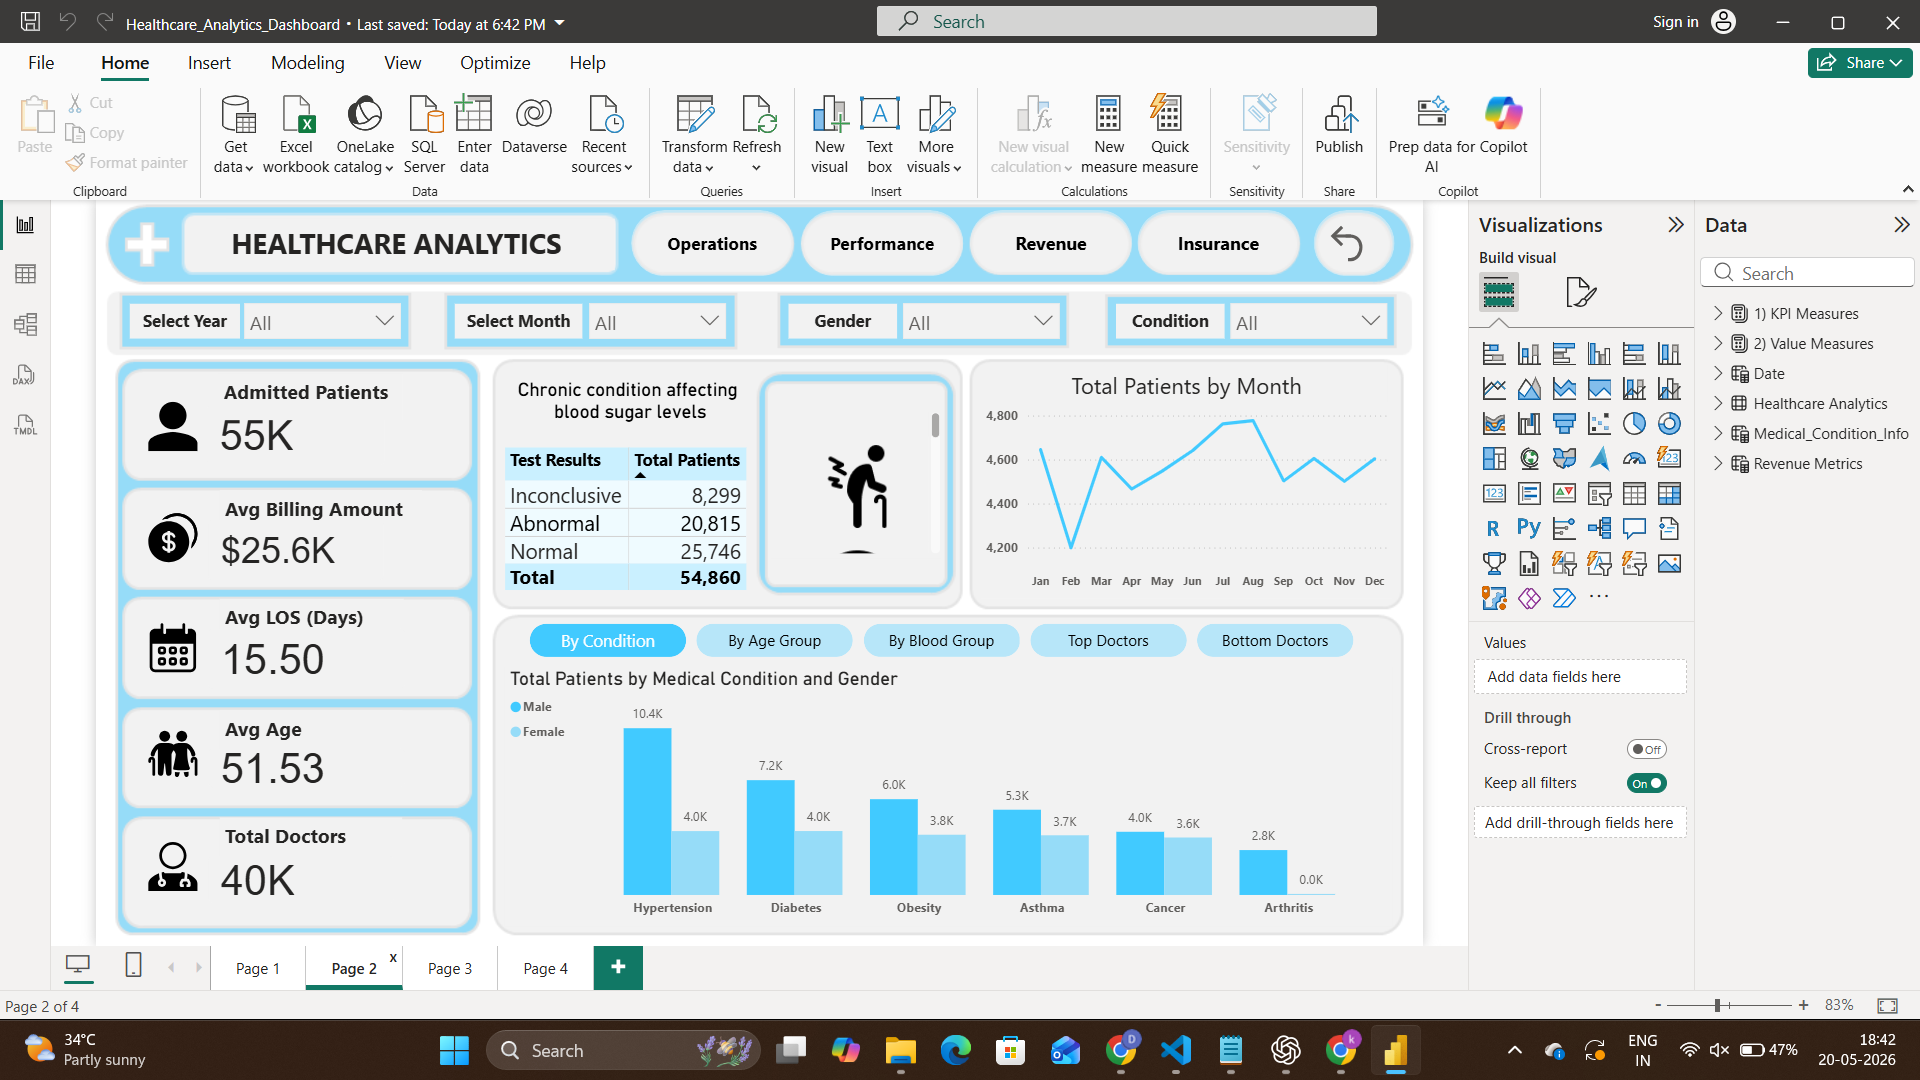

This screenshot's page, from the dashboard's own definition file:
{"tool":"powerbi","page":{"name":"Page 2","canvas":[1280,720],"ordinal":1},"visuals":[{"type":"cardVisual","fields":{"Data":["1) DAX Measures.Total Patients"]},"box":[90.5,181,205.1,92.9],"z":0},{"type":"textbox","box":[118.2,167.7,177.3,44.6],"z":1000},{"type":"clusteredColumnChart","fields":{"Y":["1) DAX Measures.Total Patients"],"Category":["Healthcare Analytics.Medical Condition"],"Series":["Healthcare Analytics.Gender"]},"box":[394.1,451,856.6,249.7],"z":1000,"group":"g2"},{"type":"image","box":[38.6,187.1,71.4,62.9],"z":2000},{"type":"textbox","box":[119.4,279.9,195.4,45.8],"z":3000},{"type":"textbox","box":[119.4,384.9,177.3,44.6],"z":4000},{"type":"textbox","box":[119.4,492.2,176.1,44.6],"z":5000},{"type":"textbox","box":[119.4,596,176.1,44.6],"z":6000},{"type":"image","box":[38.6,294.3,71.4,62.9],"z":7000},{"type":"image","box":[38.6,400,71.4,62.9],"z":8000},{"type":"image","box":[38.6,502.9,71.4,62.9],"z":9000},{"type":"image","box":[38.6,611.4,71.4,62.9],"z":10000},{"type":"cardVisual","fields":{"Data":["1) DAX Measures.Total Doctors"]},"box":[91.7,616.5,213.5,79.6],"z":11000},{"type":"cardVisual","fields":{"Data":["1) DAX Measures.Avg LOS per Hospital"]},"box":[91.7,396.9,223.2,92.9],"z":12000},{"type":"cardVisual","fields":{"Data":["1) DAX Measures.Avg Age"]},"box":[91.7,512.7,223.2,71.2],"z":13000},{"type":"cardVisual","fields":{"Data":["1) DAX Measures.Avg Billing"]},"box":[91.7,292,203.9,92.9],"z":14000},{"type":"card","fields":{"Values":["2) Value Measures.Patients KPI"]},"box":[209.1,215,163,36.6],"z":15000},{"type":"card","fields":{"Values":["2) Value Measures.Avg LOS KPI"]},"box":[207.9,429.9,164.2,36.6],"z":16000},{"type":"card","fields":{"Values":["2) Value Measures.Avg Age KPI"]},"box":[207.9,528,164.2,37.8],"z":17000},{"type":"card","fields":{"Values":["2) Value Measures.Doctors KPI"]},"box":[207.9,633.1,164.2,37.8],"z":18000},{"type":"card","fields":{"Values":["2) Value Measures.Avg Billing KPI"]},"box":[228,322.1,125.5,37.4],"z":19000},{"type":"tableEx","fields":{"Values":["Medical_Condition_Info.Image URL"]},"box":[651.5,197.9,164.1,148.4],"z":20000},{"type":"slicer","fields":{"Values":["Healthcare Analytics.Gender"]},"box":[768.5,89.3,171.3,49.5],"z":21000},{"type":"textbox","box":[668.4,100.1,105,33.8],"z":22000},{"type":"card","fields":{"Values":["Min(Medical_Condition_Info.Description)"]},"box":[396.9,159.3,237.7,68.8],"z":23000},{"type":"textbox","box":[32.6,100.1,106.2,33.8],"z":24000},{"type":"slicer","fields":{"Values":["Date.Year"]},"box":[132.7,89.3,171.3,49.5],"z":25000},{"type":"tableEx","fields":{"Values":["Healthcare Analytics.Test Results","1) DAX Measures.Total Patients"]},"box":[388.5,234,246.1,147.2],"z":26000},{"type":"textbox","box":[859,159.3,387.3,41],"z":27000},{"type":"actionButton","box":[680.4,9.7,156.8,63.9],"z":28000},{"type":"actionButton","box":[843.3,9.7,156.8,62.7],"z":29000},{"type":"actionButton","box":[1005,9.7,156.8,62.7],"z":30000},{"type":"actionButton","box":[516.4,9.7,156.8,63.9],"z":31000},{"type":"actionButton","box":[1175.1,9.7,78.4,63.9],"z":32000},{"type":"textbox","box":[984.5,100.1,105,33.8],"z":33000},{"type":"slicer","fields":{"Values":["Medical_Condition_Info.Medical Condition"]},"box":[1084.6,89.3,171.3,49.5],"z":34000},{"type":"group","id":"g1","title":"Top and Bottom","box":[405.2,417.4,836.3,281.1],"z":35000},{"type":"group","id":"g2","title":"Performance (page 2)","box":[392.9,409,857.8,291.7],"z":36000},{"type":"textbox","box":[346.2,100.1,123.1,33.8],"z":37000},{"type":"slicer","fields":{"Values":["Date.Month name"]},"box":[465.7,89.3,152,49.5],"z":38000},{"type":"lineChart","fields":{"Category":["Date.Month name"],"Y":["1) DAX Measures.Total Patients"]},"box":[854.2,194.2,396.9,190.6],"z":39000},{"type":"textbox","box":[125.5,18.1,375.2,49.5],"z":40000},{"type":"bookmarkNavigator","box":[418.2,409,799.9,32.6],"z":40001,"group":"g2"}]}

Visuals, with their boxes on the page's 1280x720 design canvas (x1, y1, x2, y2). These are canvas units, not pixel positions in the 1920x1080 screenshot, which may show the page scaled, cropped or inside an application window:
cardVisual - 1) DAX Measures.Total Patients: (90,181,296,274)
textbox: (118,168,296,212)
clusteredColumnChart - 1) DAX Measures.Total Patients x Healthcare Analytics.Medical Condition: (394,451,1251,701)
image: (39,187,110,250)
textbox: (119,280,315,326)
textbox: (119,385,297,430)
textbox: (119,492,296,537)
textbox: (119,596,296,641)
image: (39,294,110,357)
image: (39,400,110,463)
image: (39,503,110,566)
image: (39,611,110,674)
cardVisual - 1) DAX Measures.Total Doctors: (92,616,305,696)
cardVisual - 1) DAX Measures.Avg LOS per Hospital: (92,397,315,490)
cardVisual - 1) DAX Measures.Avg Age: (92,513,315,584)
cardVisual - 1) DAX Measures.Avg Billing: (92,292,296,385)
card - 2) Value Measures.Patients KPI: (209,215,372,252)
card - 2) Value Measures.Avg LOS KPI: (208,430,372,466)
card - 2) Value Measures.Avg Age KPI: (208,528,372,566)
card - 2) Value Measures.Doctors KPI: (208,633,372,671)
card - 2) Value Measures.Avg Billing KPI: (228,322,354,360)
tableEx - Medical_Condition_Info.Image URL: (652,198,816,346)
slicer - Healthcare Analytics.Gender: (768,89,940,139)
textbox: (668,100,773,134)
card - Min(Medical_Condition_Info.Description): (397,159,635,228)
textbox: (33,100,139,134)
slicer - Date.Year: (133,89,304,139)
tableEx - Healthcare Analytics.Test Results x 1) DAX Measures.Total Patients: (388,234,635,381)
textbox: (859,159,1246,200)
actionButton: (680,10,837,74)
actionButton: (843,10,1000,72)
actionButton: (1005,10,1162,72)
actionButton: (516,10,673,74)
actionButton: (1175,10,1254,74)
textbox: (984,100,1090,134)
slicer - Medical_Condition_Info.Medical Condition: (1085,89,1256,139)
"Top and Bottom" group: (405,417,1242,698)
"Performance (page 2)" group: (393,409,1251,701)
textbox: (346,100,469,134)
slicer - Date.Month name: (466,89,618,139)
lineChart - Date.Month name x 1) DAX Measures.Total Patients: (854,194,1251,385)
textbox: (126,18,501,68)
bookmarkNavigator: (418,409,1218,442)
